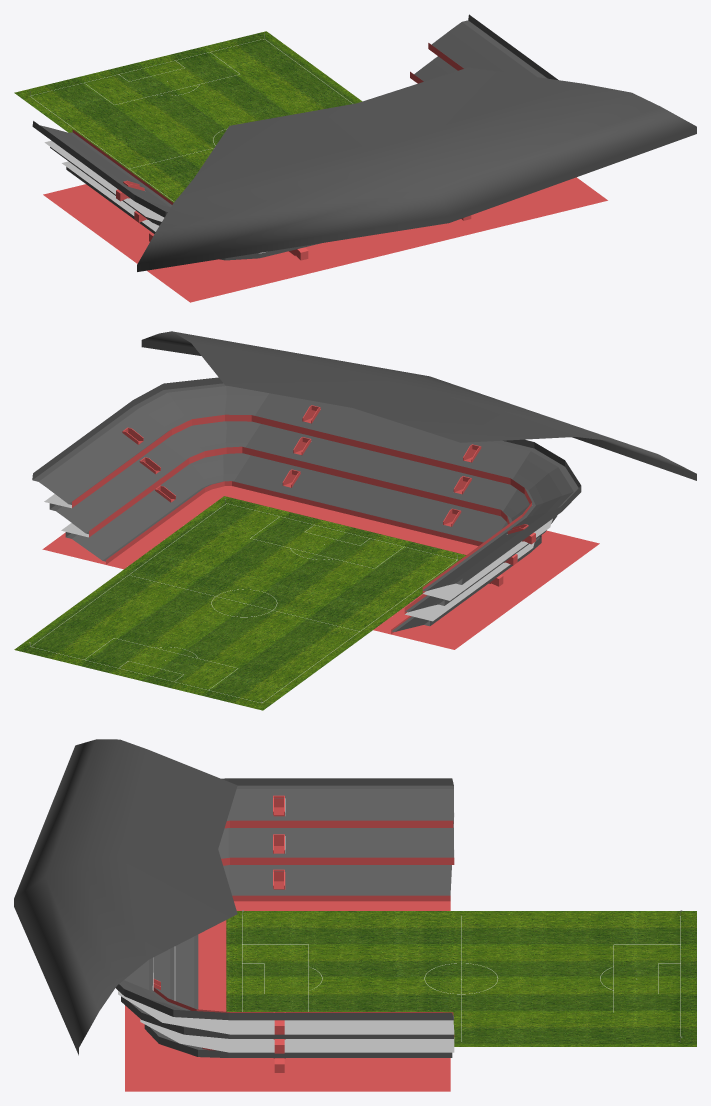
Rendered from stadium.fbx.
3 renders of one model, top to bottom at view 1: azimuth 30°, elevation 25°; view 2: azimuth 150°, elevation 25°; view 3: azimuth 270°, elevation 25°, orthographic. The views are drawn at different scales.
Parts seen in each view (by area): view 1: roof2, grass, stadiumBaseMesh, spectatorsEntrances, lines; view 2: stadiumBaseMesh, grass, roof2, spectatorsEntrances, lines; view 3: stadiumBaseMesh, grass, roof2, spectatorsEntrances, lines.
Boxes of the visible parts, x1,y1,x2,y2 form: roof2: (137, 67, 696, 271); grass: (14, 31, 362, 202); stadiumBaseMesh: (32, 14, 607, 302); spectatorsEntrances: (116, 180, 471, 260); lines: (30, 39, 352, 201); stadiumBaseMesh: (32, 377, 599, 649); grass: (14, 496, 466, 710); roof2: (141, 331, 696, 480); spectatorsEntrances: (122, 405, 535, 586); lines: (31, 503, 457, 702); stadiumBaseMesh: (115, 778, 454, 1091); grass: (226, 911, 696, 1046); roof2: (14, 739, 237, 1055); spectatorsEntrances: (153, 795, 285, 1072); lines: (242, 916, 680, 1041).
Size of the model in its own units: 179 by 35.88 by 171.
Materials: 6 (1 with a texture image).
